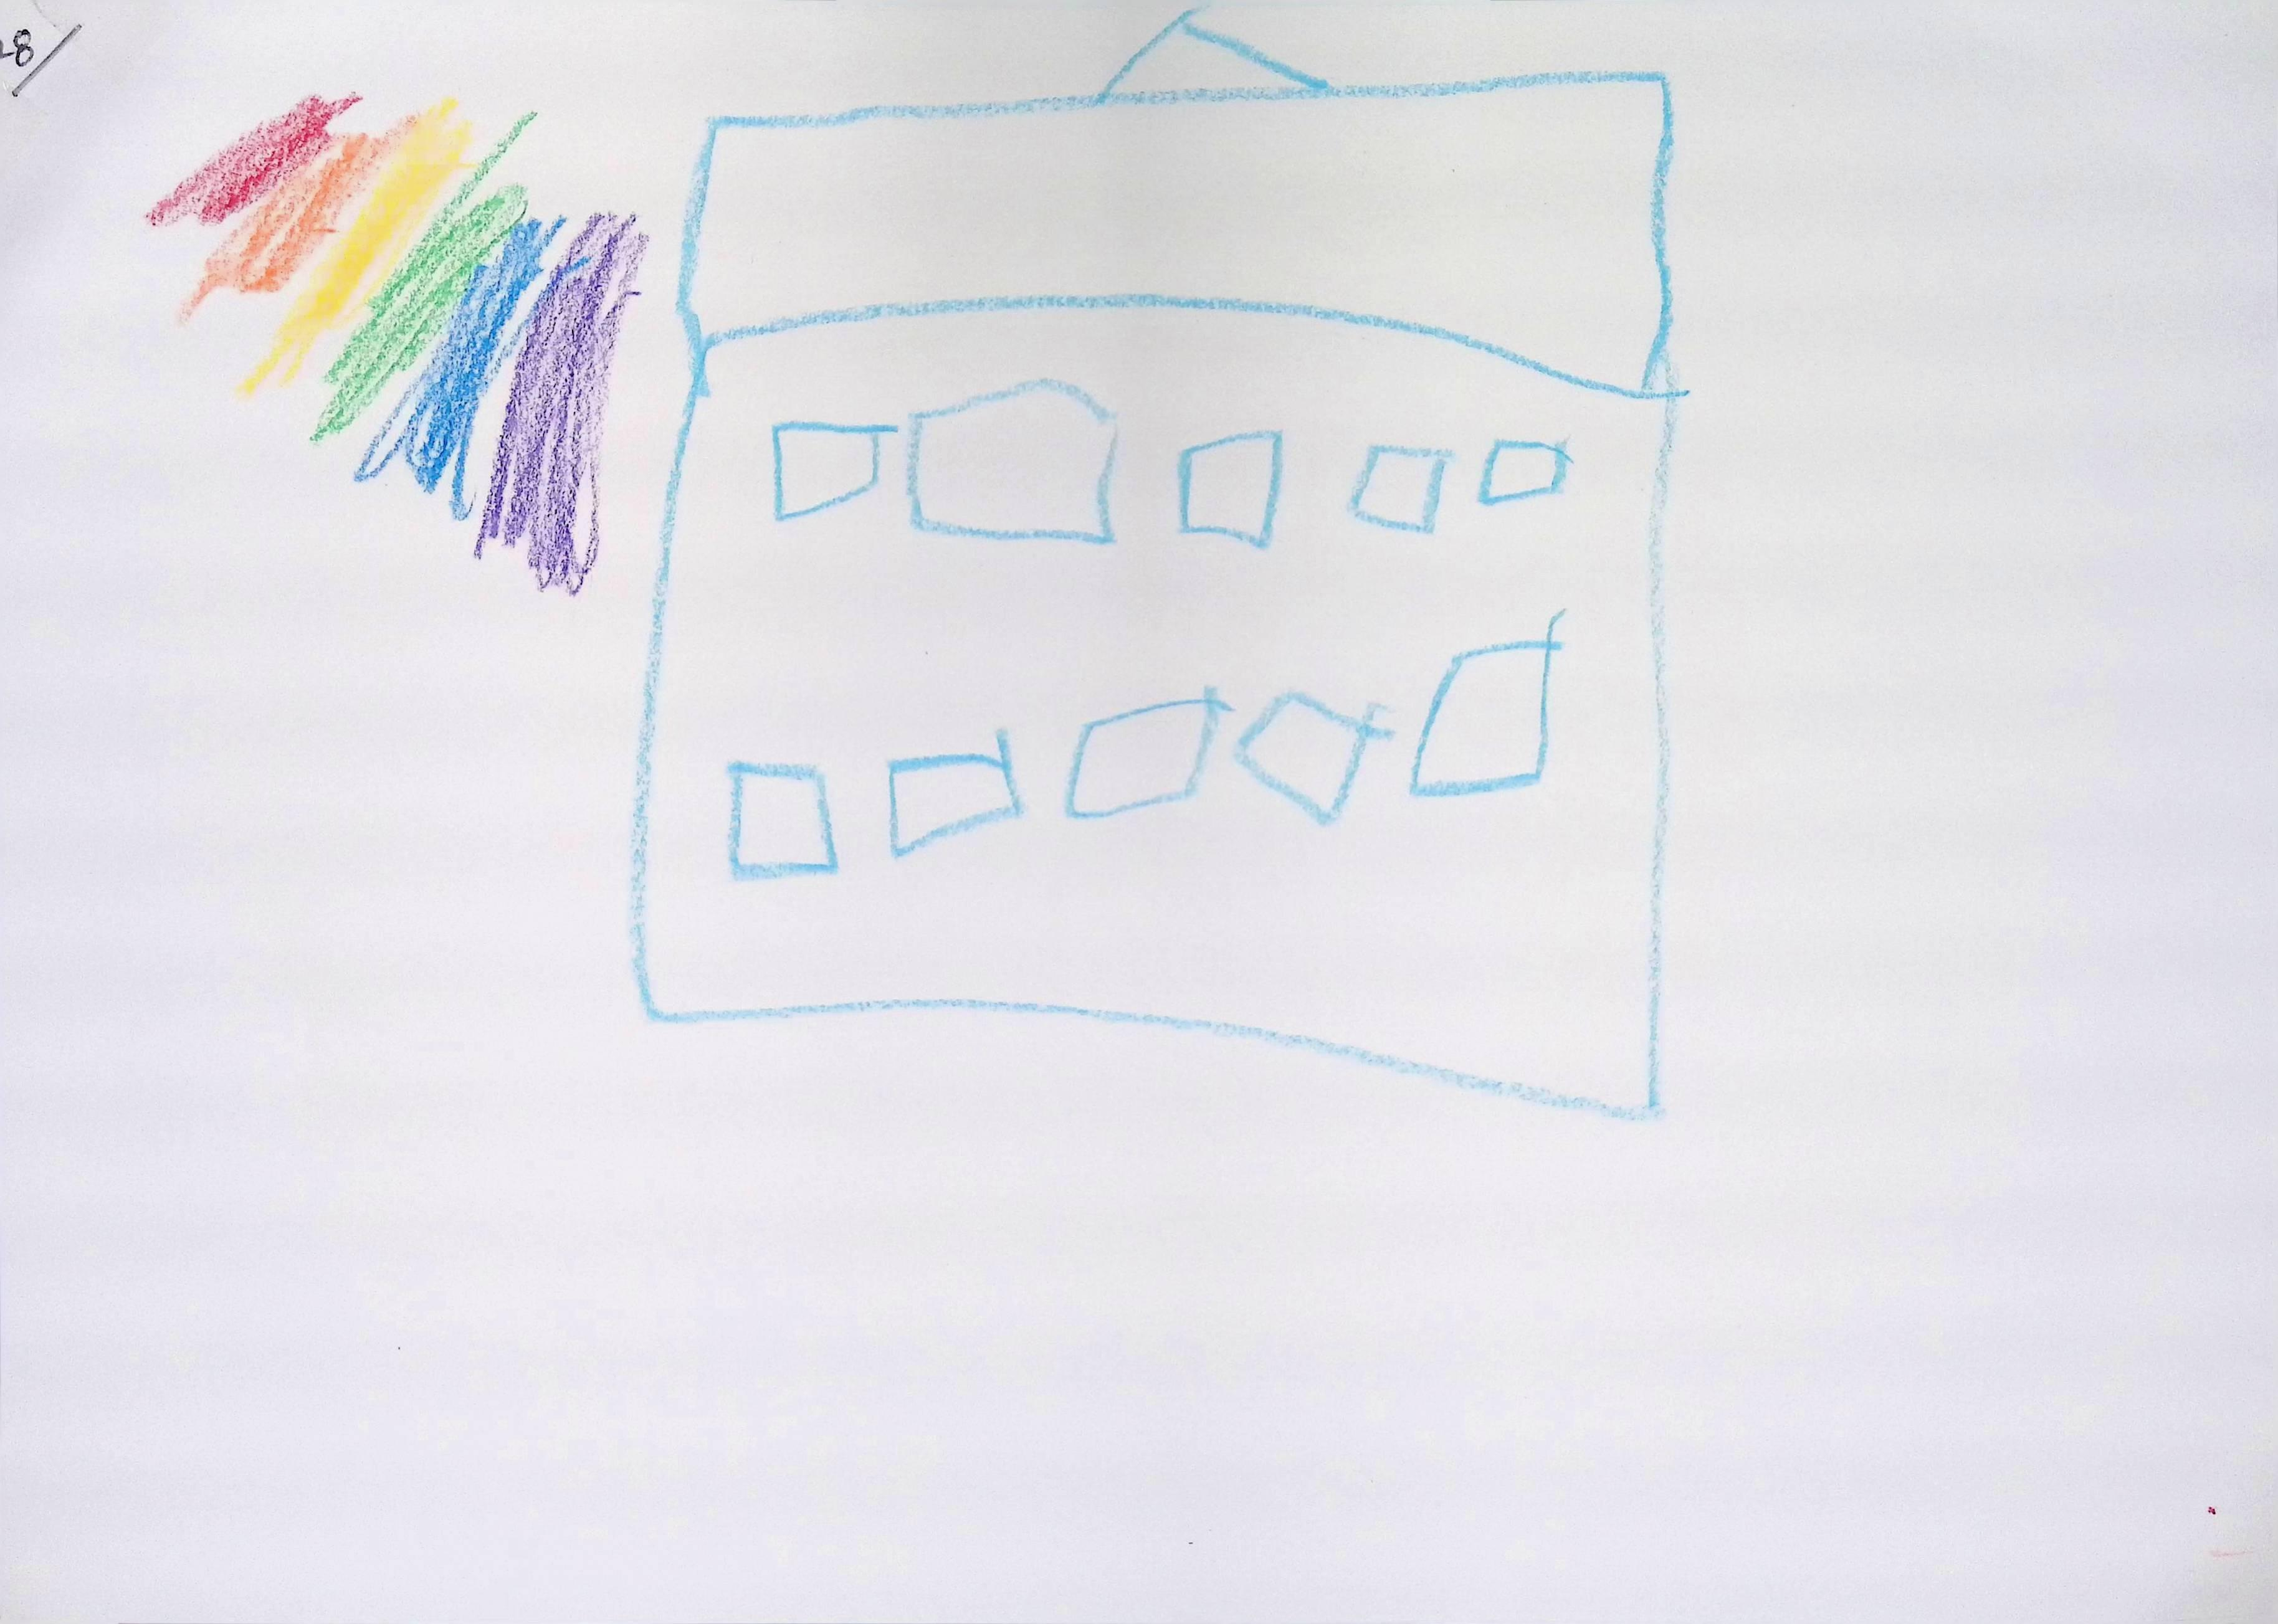house: (635, 9, 1679, 1114)
roof: (682, 12, 1672, 401)
wall: (635, 288, 1677, 1114)
window: (903, 380, 1118, 540), (1411, 631, 1564, 796), (1067, 685, 1230, 816), (1237, 691, 1394, 824), (889, 729, 1021, 856), (728, 761, 837, 877), (1179, 429, 1283, 545), (773, 420, 872, 518), (1352, 443, 1454, 531), (1482, 438, 1571, 503)
